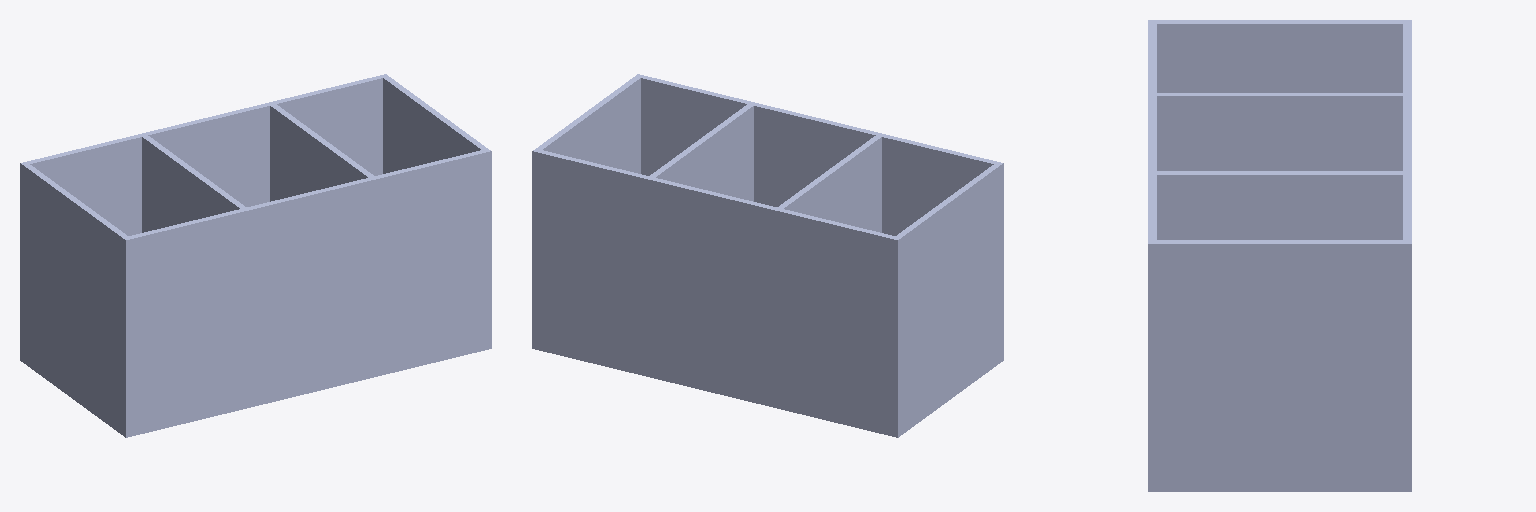
The robot description file, URDF, robot "storage_box":
<?xml version="1.0" encoding="utf-8"?>
<!-- This URDF was automatically created by SolidWorks to URDF Exporter! Originally created by [author] ([email redacted]) 
     Commit Version: 1.6.0-1-g15f4949  Build Version: 1.6.7594.29634
     For more information, please see http://wiki.ros.org/sw_urdf_exporter -->
<robot
  name="storage_box">
  <link
    name="base_link">
    <inertial>
      <origin
        xyz="0.601601125386072 0.3 0.256301369863014"
        rpy="0 0 0" />
      <mass
        value="70.08" />
      <inertia
        ixx="6.3278733150685"
        ixy="1.00906676555969E-14"
        ixz="-0.00714742372342245"
        iyy="13.2287601930154"
        iyz="8.19745104616631E-16"
        izz="14.0158948779469" />
    </inertial>
    <visual>
      <origin
        xyz="0 0 0"
        rpy="0 0 0" />
      <geometry>
        <mesh
          filename="package://storage_box/meshes/base_link.STL" />
      </geometry>
      <material
        name="">
        <color
          rgba="0.792156862745098 0.819607843137255 0.933333333333333 1" />
      </material>
    </visual>
    <collision>
      <origin
        xyz="0 0 0"
        rpy="0 0 0" />
      <geometry>
        <mesh
          filename="package://storage_box/meshes/base_link.STL" />
      </geometry>
    </collision>
  </link>

<gazebo reference ='base_link'>
<material>cement </material>
</gazebo>

<gazebo>
    <static>true</static>
</gazebo>
</robot>

--- Render facts (derived) ---
The picture shows the robot from 3 angles, left to right: view 1: azimuth 30°, elevation 25°; view 2: azimuth 150°, elevation 25°; view 3: azimuth 270°, elevation 25°; orthographic projection.
Robot: storage_box — 1 links, 0 joints (none); root link base_link; default pose: every joint at zero.
Links seen in each view (by area): view 1: base_link; view 2: base_link; view 3: base_link.
Boxes of the visible links, x1,y1,x2,y2 form: base_link: (20,74,491,437); base_link: (532,74,1003,437); base_link: (1148,20,1411,491).
Size in the robot's own frame: 1.2 by 0.6 by 0.62 metres.
Meshes: 1 distinct files referenced, 1 mesh visuals loaded (1 binary STL).